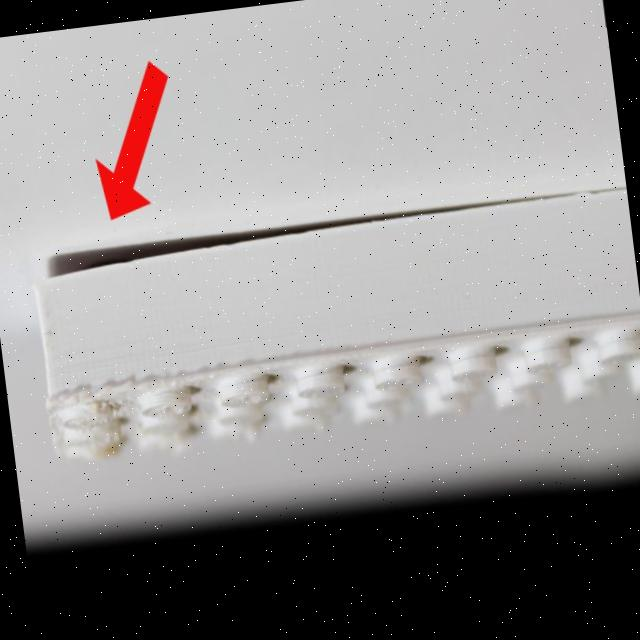cracks: (0, 178, 355, 333)
